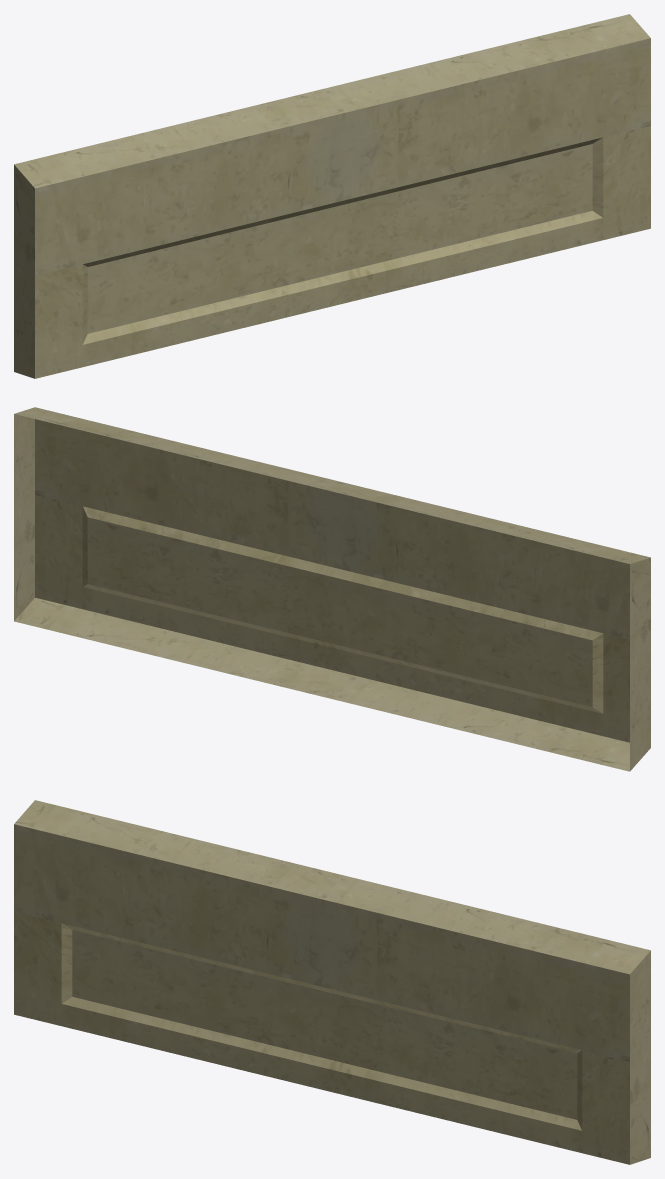
The model's file is Trim_Wall_Guard.glb.
3 views of the same model, one above another, from view 1: azimuth 30°, elevation 25°; view 2: azimuth 150°, elevation 25°; view 3: azimuth 330°, elevation 25° (orthographic).
Visible parts, largest first — view 1: Trim_Wall_Guard; view 2: Trim_Wall_Guard; view 3: Trim_Wall_Guard.
Boxes of the visible parts, x1,y1,x2,y2 form: Trim_Wall_Guard: [14, 14, 650, 378]; Trim_Wall_Guard: [14, 407, 650, 771]; Trim_Wall_Guard: [14, 800, 650, 1164].
Bounding box in the file's own units: 2 × 0.6441 × 0.1184.
1 material, 1 textured.
